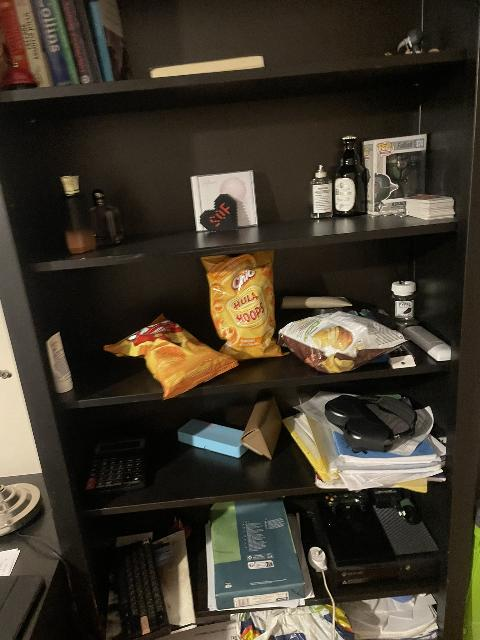Chio Cascaval 125g: (104, 315, 239, 400)
Chio Hula Hoops Cheese 70g: (202, 254, 280, 352)
Lays Beef Grilled Ribs 125g: (277, 309, 398, 372)
